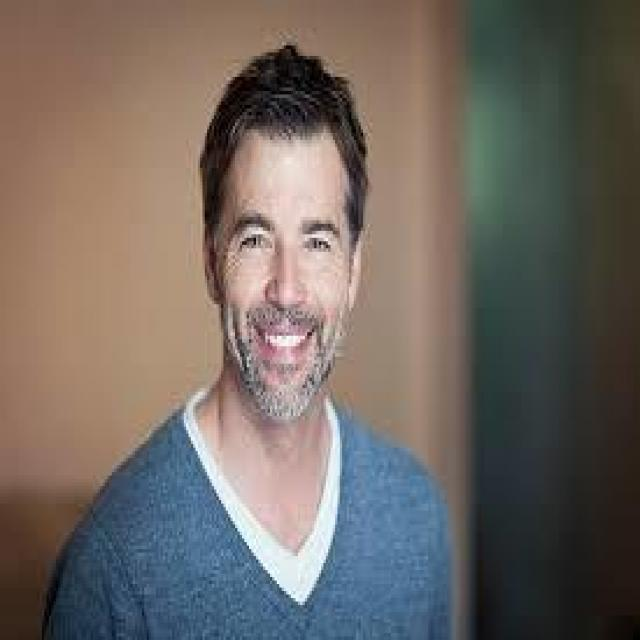person: (91, 31, 472, 626)
